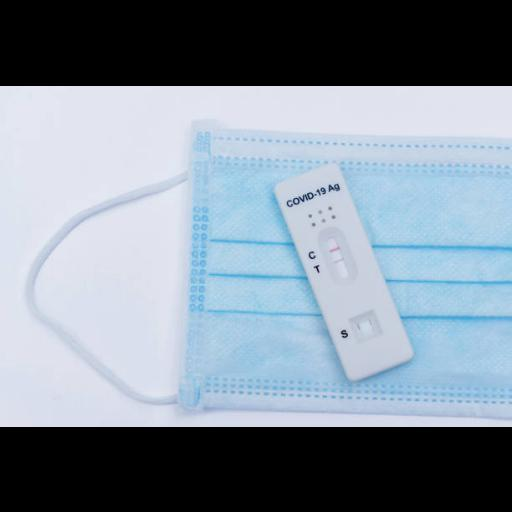Pos: (275, 161, 417, 381)
